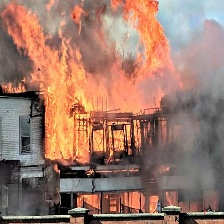fire: (4, 1, 178, 160)
smoke: (174, 24, 224, 187)
